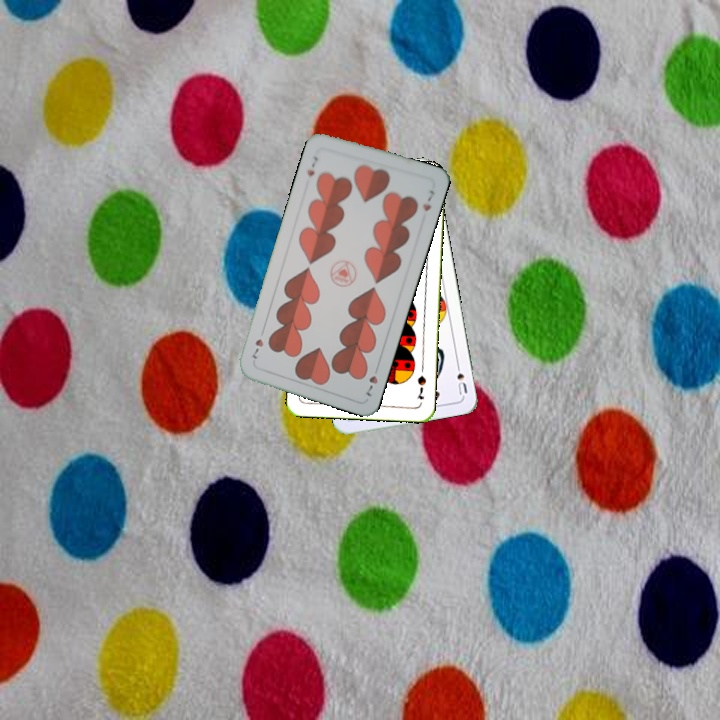H7: (362, 361, 382, 399), (303, 152, 321, 179)
S7: (413, 372, 428, 402)
SU: (452, 358, 470, 398)
